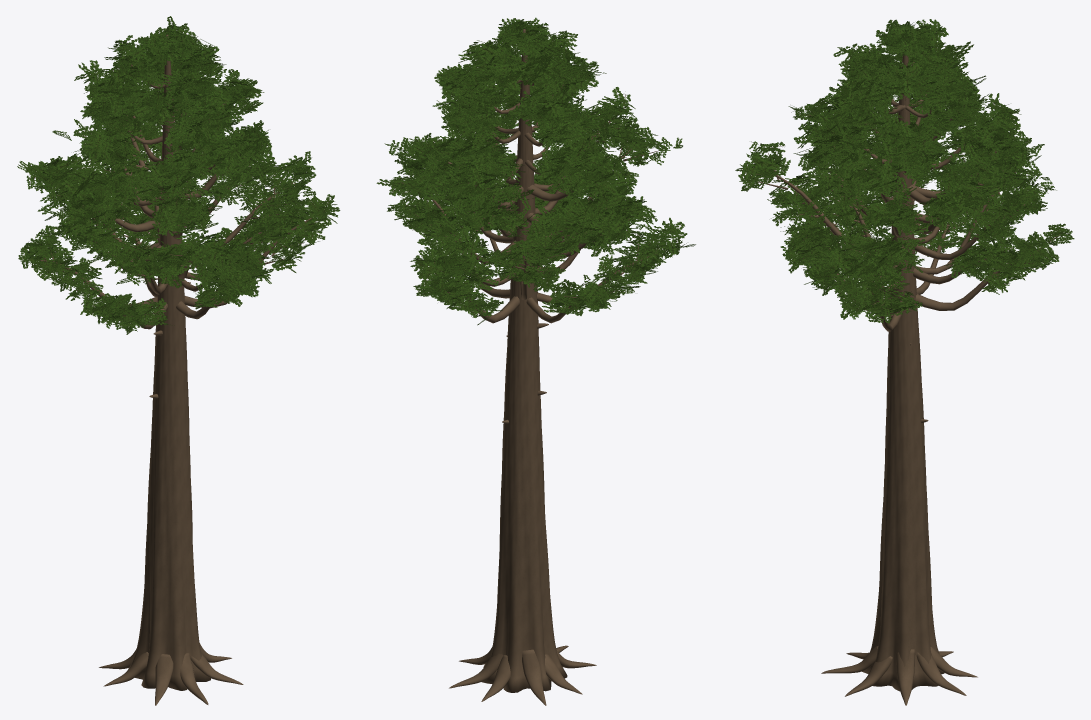
The model's file is GF2_Tree_A_Sentinel.fbx.
3 views of the same model, side by side, from view 1: azimuth 30°, elevation 25°; view 2: azimuth 150°, elevation 25°; view 3: azimuth 270°, elevation 25° (orthographic).
Parts seen in each view (by area): view 1: GF2_Tree_A_Sentinel.001; view 2: GF2_Tree_A_Sentinel.001; view 3: GF2_Tree_A_Sentinel.001.
Part boxes in pixels (bbox=[...]): GF2_Tree_A_Sentinel.001: bbox=[17, 16, 340, 705]; GF2_Tree_A_Sentinel.001: bbox=[376, 17, 695, 705]; GF2_Tree_A_Sentinel.001: bbox=[735, 19, 1074, 705].
Bounding box in the file's own units: 57.53 × 122 × 58.67.
Materials: 2 (2 with a texture image).
